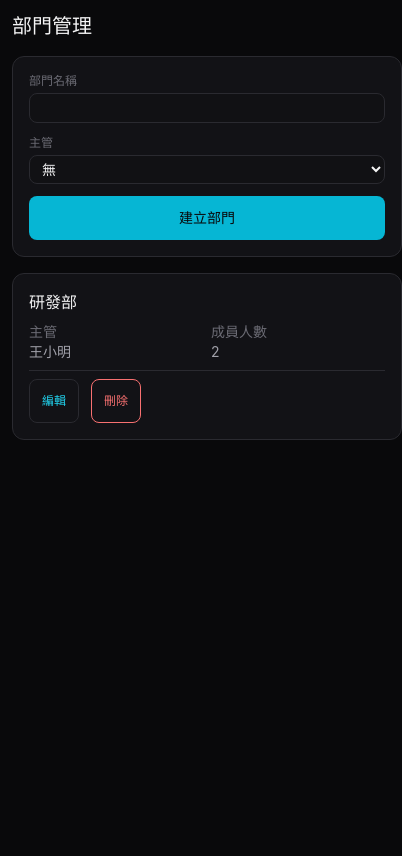
Test: 建立部門成功後新列出現在清單中
Expected: the text "研發部" is shown, x1=29 y1=292 x2=77 y2=312
Type "業務部" into the field labelled "部門名稱".
click(207, 108); type("業務部")  # box x1=29 y1=93 x2=385 y2=123
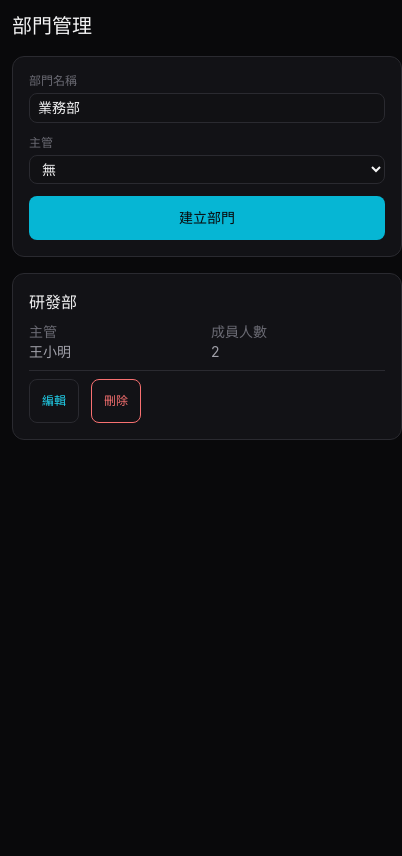
Click the button "建立部門".
click(207, 218)  # box x1=29 y1=196 x2=385 y2=240
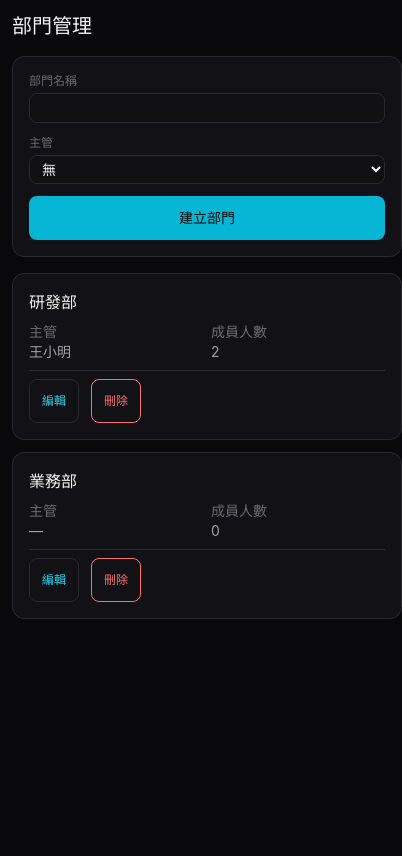
Expected: the text "業務部" is shown, x1=29 y1=471 x2=77 y2=491
